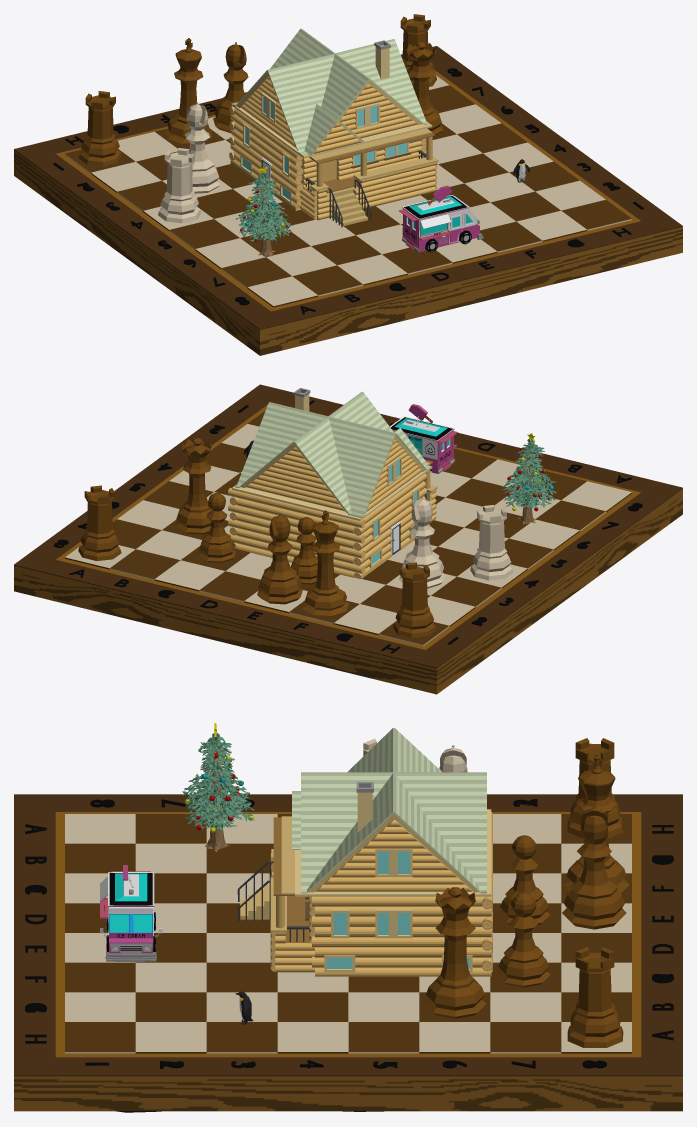
3 views of the same model, one above another, from view 1: azimuth 30°, elevation 25°; view 2: azimuth 150°, elevation 25°; view 3: azimuth 270°, elevation 25° (orthographic). The views are drawn at different scales.
Visible parts, largest first — view 1: Cube.002, Cube.1516, VEHICLES_ICE_CREAM_TRUCK, OBJRANDOM_CHRISTMAS_TREE; view 2: Cube.002, Cube.1516, OBJRANDOM_CHRISTMAS_TREE, VEHICLES_ICE_CREAM_TRUCK; view 3: Cube.002, Cube.1516, VEHICLES_ICE_CREAM_TRUCK, OBJRANDOM_CHRISTMAS_TREE.
Boxes of the visible parts, x1,y1,x2,y2 form: Cube.002: [14, 14, 682, 355]; Cube.1516: [229, 28, 438, 227]; VEHICLES_ICE_CREAM_TRUCK: [398, 185, 483, 252]; OBJRANDOM_CHRISTMAS_TREE: [235, 166, 292, 256]; Cube.002: [14, 384, 682, 694]; Cube.1516: [228, 388, 437, 578]; OBJRANDOM_CHRISTMAS_TREE: [502, 433, 556, 524]; VEHICLES_ICE_CREAM_TRUCK: [390, 404, 457, 473]; Cube.002: [14, 738, 682, 1111]; Cube.1516: [237, 728, 492, 976]; VEHICLES_ICE_CREAM_TRUCK: [100, 865, 162, 961]; OBJRANDOM_CHRISTMAS_TREE: [182, 723, 254, 851].
Bounding box in the file's own units: 3981 × 1457 × 4012.
46 materials, 3 textured.
